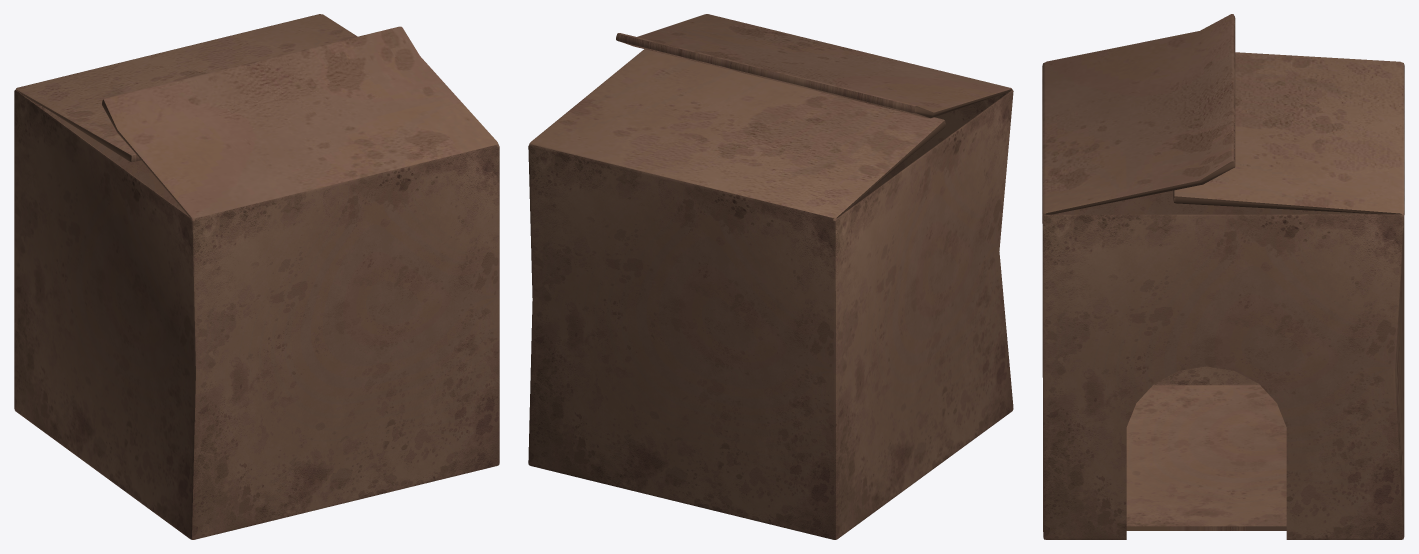
Rendered from boxHouse_1.fbx.
3 views of the same model, side by side, from view 1: azimuth 30°, elevation 25°; view 2: azimuth 150°, elevation 25°; view 3: azimuth 270°, elevation 25° (orthographic).
Parts seen in each view (by area): view 1: Box001; view 2: Box001; view 3: Box001.
Boxes of the visible parts, x1,y1,x2,y2 form: Box001: (14, 14, 499, 539); Box001: (528, 14, 1013, 539); Box001: (1042, 14, 1404, 539).
Bounding box in the file's own units: 40.56 × 46.71 × 40.63.
